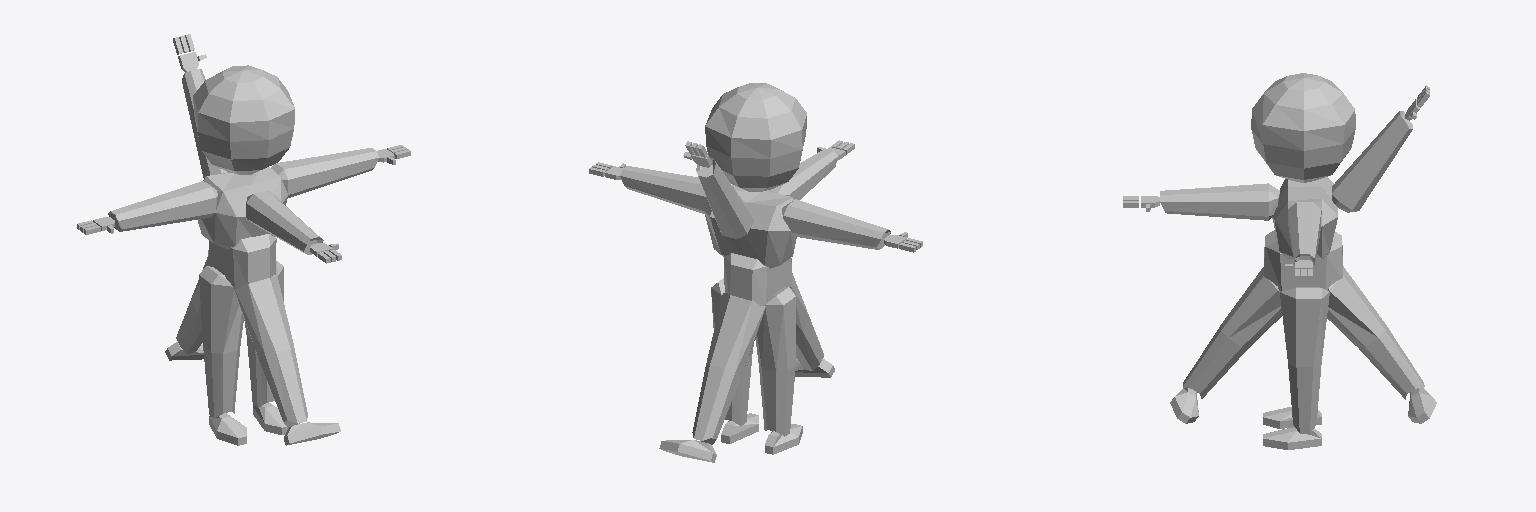
Rendered from Vitruvian1.obj.
The picture shows the model from 3 angles: view 1: azimuth 30°, elevation 25°; view 2: azimuth 150°, elevation 25°; view 3: azimuth 270°, elevation 25°; orthographic projection.
Parts seen in each view (by area): view 1: Android; view 2: Android; view 3: Android.
Part boxes in pixels (x1,y1,x2,y2): Android: (77,34,410,445); Android: (589,83,922,462); Android: (1123,73,1436,449).
Bounding box in the file's own units: 2.24 × 2.33 × 1.88.